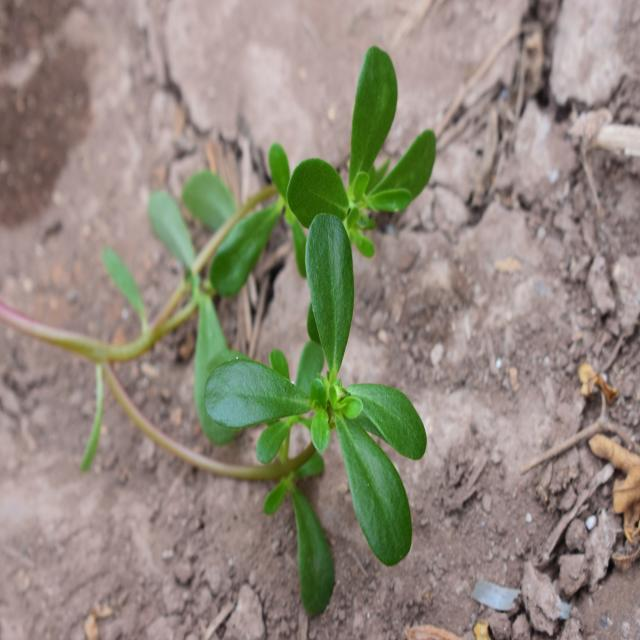purslane: (139, 42, 469, 618)
